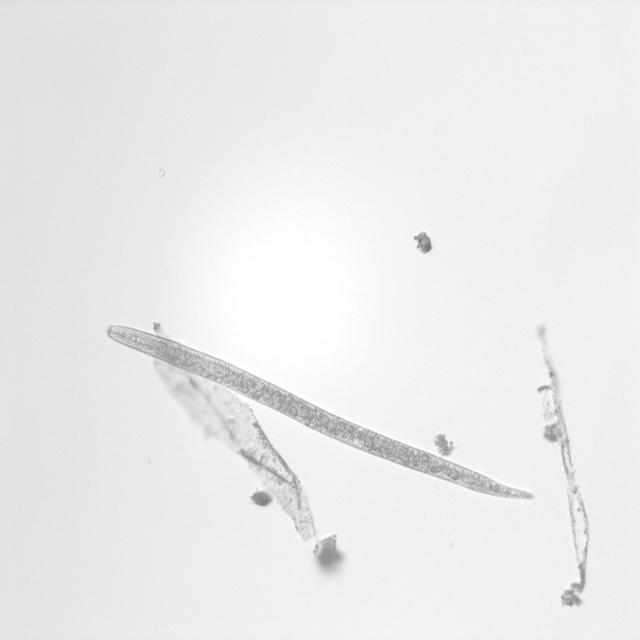Radopholus: (102, 324, 540, 506)
